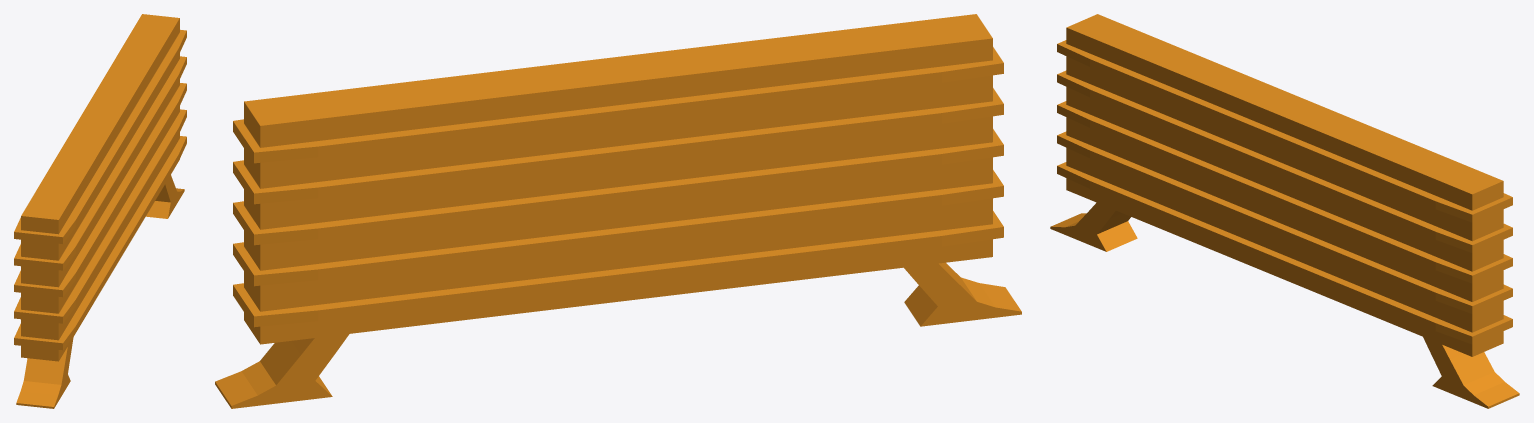
File: VallasObra.fbx
The picture shows the model from 3 angles, left to right: view 1: azimuth 30°, elevation 25°; view 2: azimuth 150°, elevation 25°; view 3: azimuth 270°, elevation 25°; orthographic projection. The views are drawn at different scales.
Visible parts, largest first — view 1: VallaObra.002; view 2: VallaObra.002; view 3: VallaObra.002.
Part boxes in pixels (left/top/right/bottom): VallaObra.002: left=14, top=14, right=186, bottom=408; VallaObra.002: left=215, top=14, right=1021, bottom=408; VallaObra.002: left=1050, top=14, right=1519, bottom=408.
Size of the model in its own units: 162 by 81.03 by 166.
